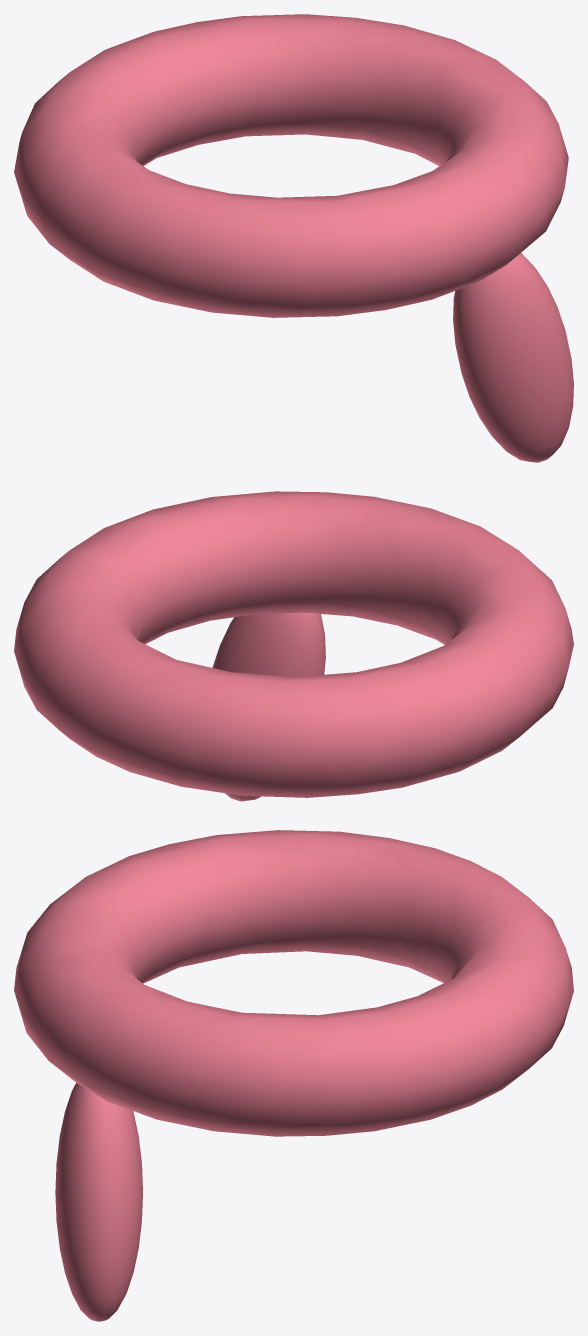
The model's file is scarf.glb.
The picture shows the model from 3 angles, top to bottom: view 1: azimuth 30°, elevation 25°; view 2: azimuth 150°, elevation 25°; view 3: azimuth 270°, elevation 25°; orthographic projection.
Parts seen in each view (by area): view 1: Torus, ScarfTail; view 2: Torus, ScarfTail; view 3: Torus, ScarfTail.
Boxes of the visible parts, bbox=[...] form: Torus: bbox=[14, 14, 568, 317]; ScarfTail: bbox=[453, 253, 573, 462]; Torus: bbox=[14, 491, 573, 797]; ScarfTail: bbox=[212, 612, 325, 801]; Torus: bbox=[14, 830, 573, 1136]; ScarfTail: bbox=[55, 1083, 142, 1321].
Bounding box in the file's own units: 0.6894 × 0.4318 × 0.6897.
